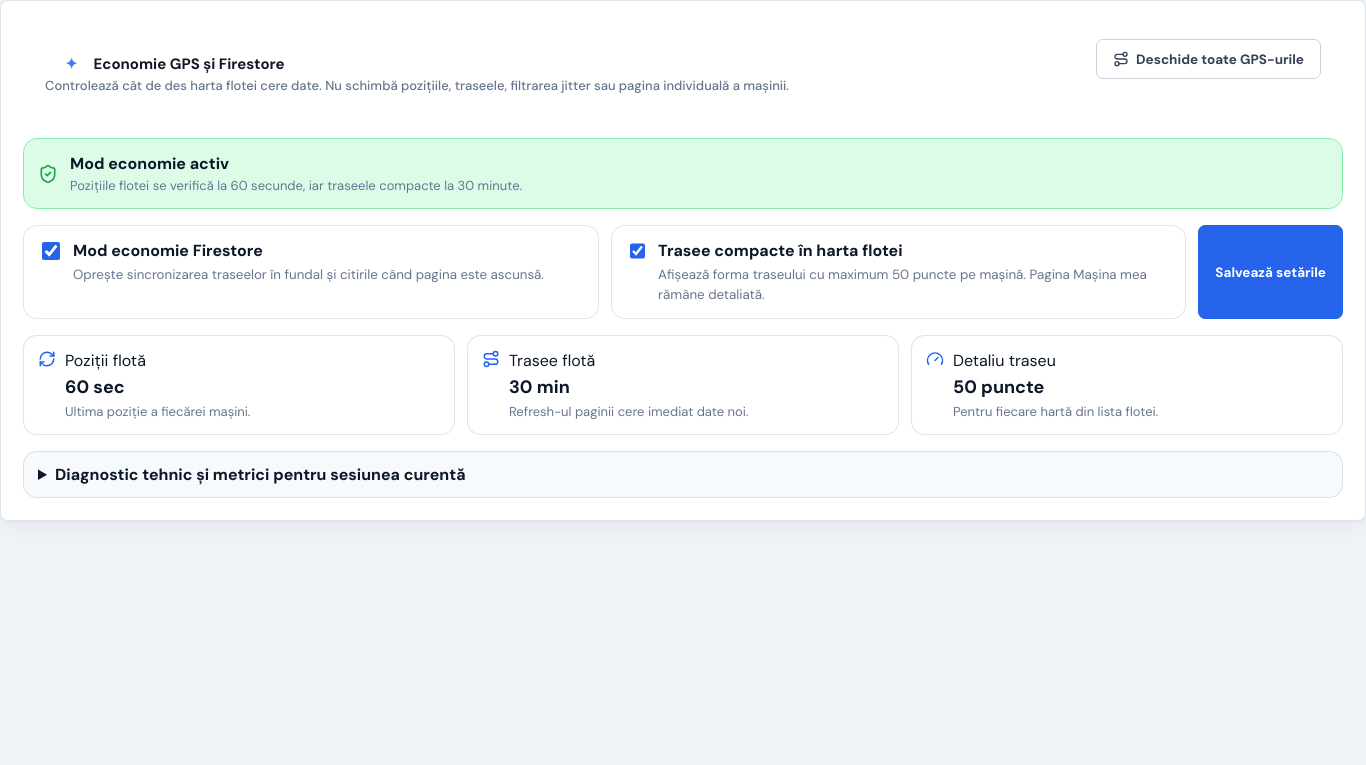
Scenario: GpsOptimizationPanel › keeps technical zero values collapsed and explains their session scope
Expected: the text "Mod economie activ" is shown, [70, 153, 229, 174]
Click the heading "Diagnostic tehnic și metrici pentru sesiunea curentă" at (260, 474), box [55, 464, 466, 485]
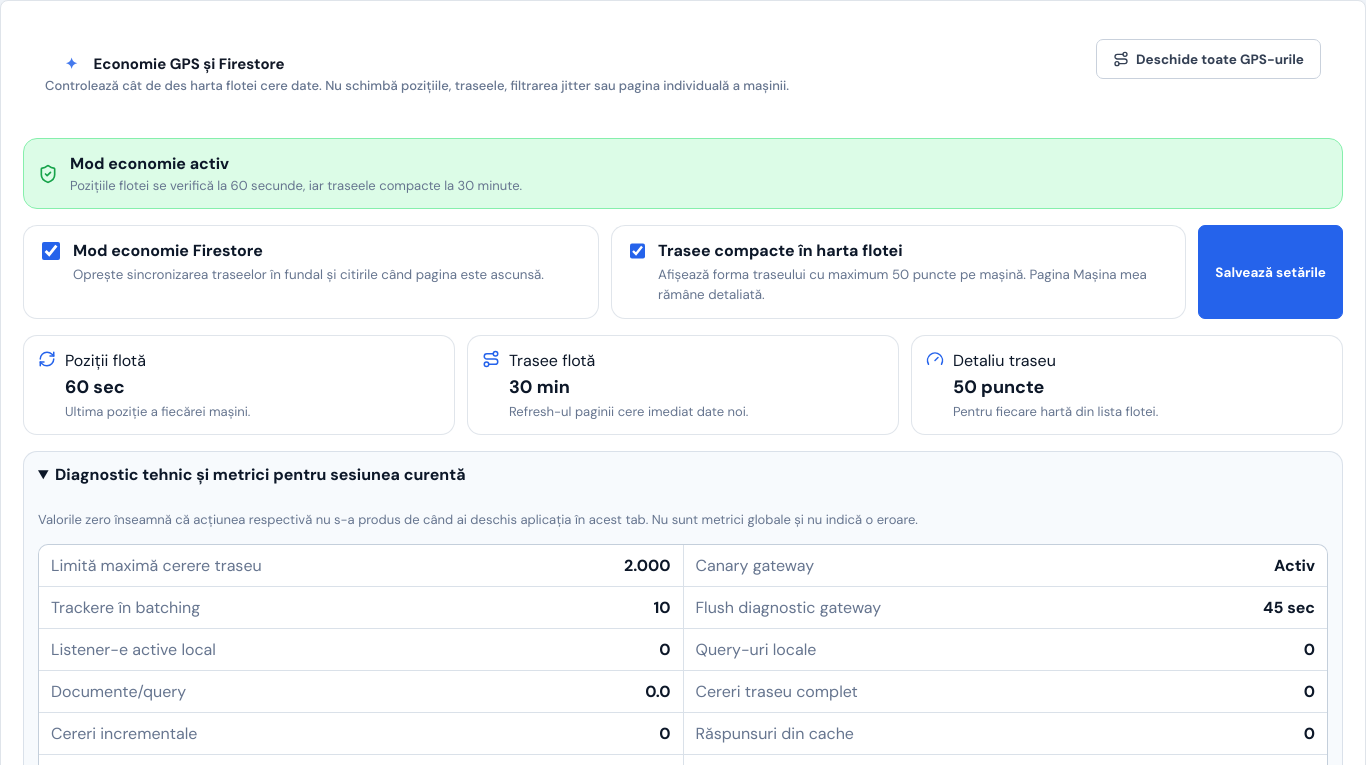
Now the text "nu s-a produs de când ai deschis" is shown, box [38, 511, 918, 528]
